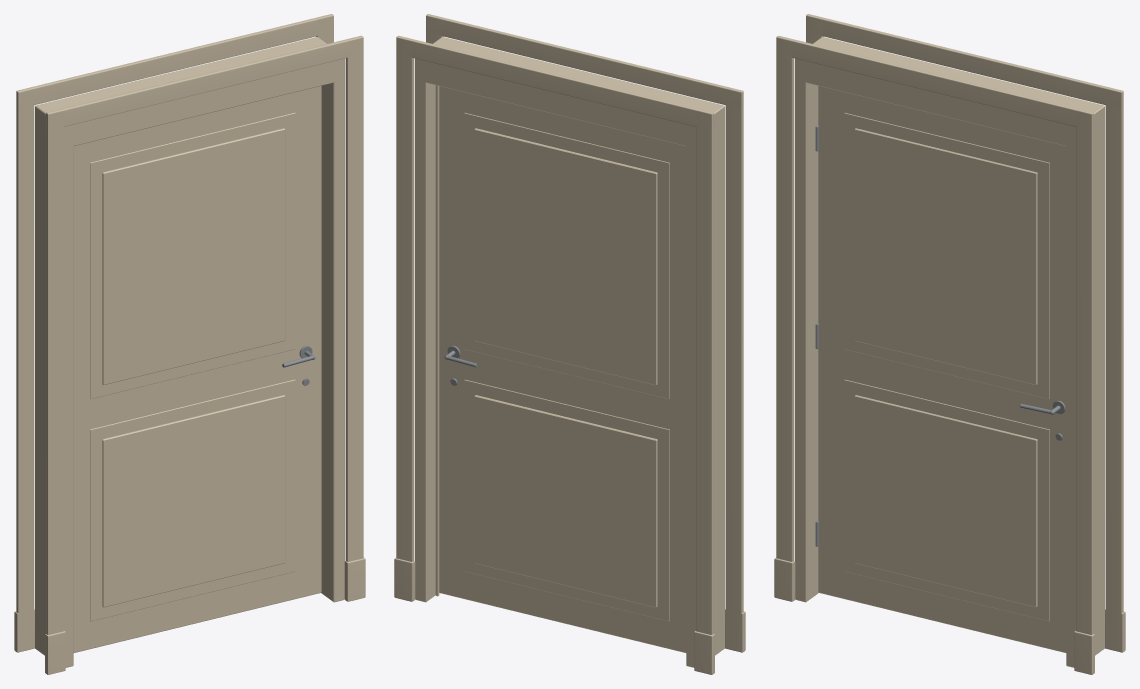
File: prop_door_service_ivory_t20.glb
The picture shows the model from 3 angles, left to right: view 1: azimuth 30°, elevation 25°; view 2: azimuth 150°, elevation 25°; view 3: azimuth 330°, elevation 25°; orthographic projection.
Parts seen in each view (by area): view 1: LeafMesh, Frame; view 2: LeafMesh, Frame; view 3: LeafMesh, Frame.
Boxes of the visible parts, <box> form: LeafMesh: <box>73,86,321,652</box>; Frame: <box>14,14,365,674</box>; LeafMesh: <box>439,86,686,652</box>; Frame: <box>394,14,745,674</box>; LeafMesh: <box>815,86,1066,652</box>; Frame: <box>774,14,1125,674</box>.
Size of what is drawn, in the model's own units: 1.35 by 2.27 by 0.248.
